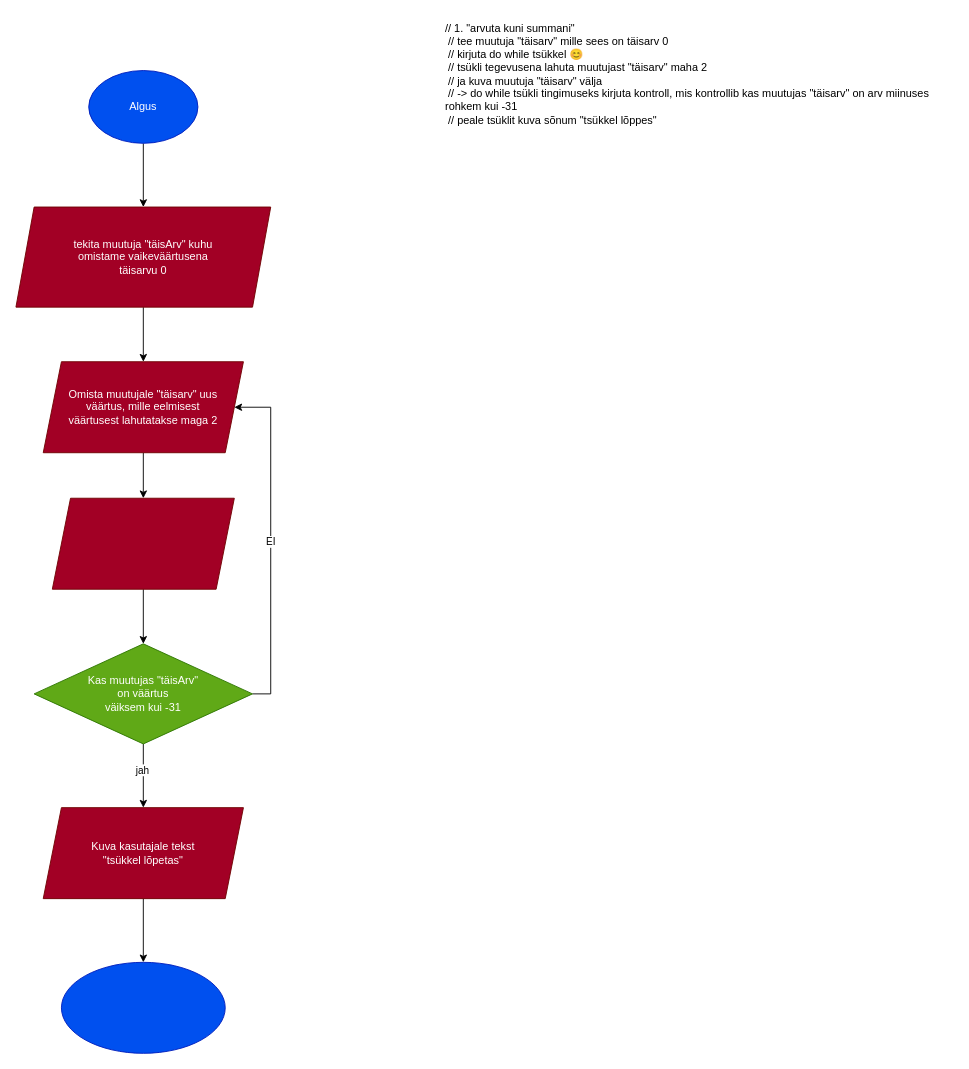
The diagram is 969 pixels wide and 1069 high, and some of its shapes have lost their labels. Here are the shapes that lost their labels. From the top down, the centre of each, then its label:
pixel 142 543: Kuva kasutajale muutujas "täisArv" olev väärtus
pixel 143 1007: lõpp
